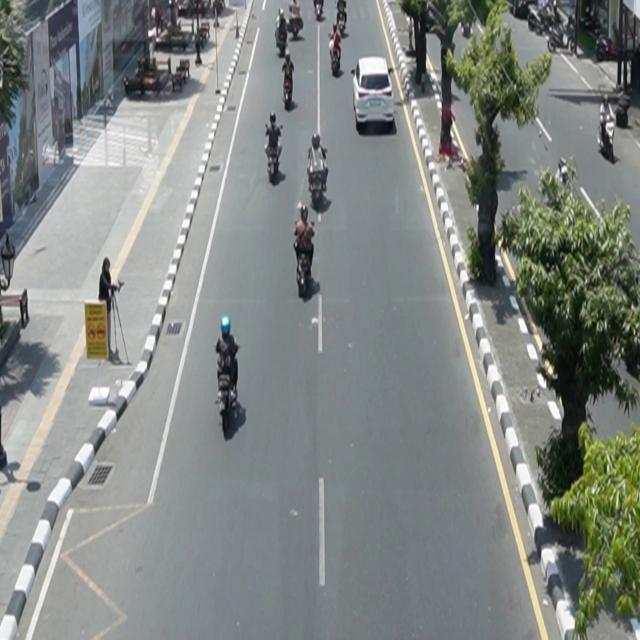car: (352, 57, 395, 128)
